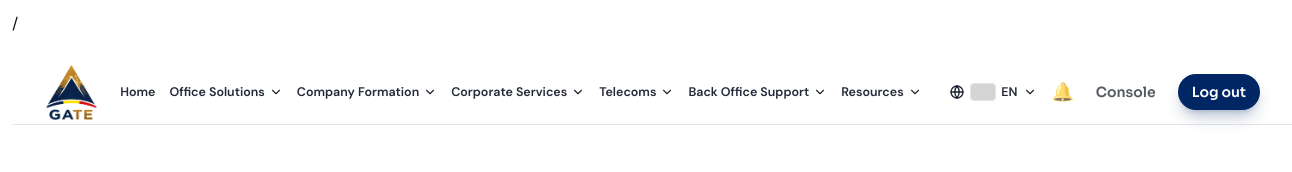
Scenario: Navbar auth links › sends an admin to the real console (/staff), never the old /admin or customer dashboard
Click the button "Console" at (1126, 92), box [1082,74,1170,110]
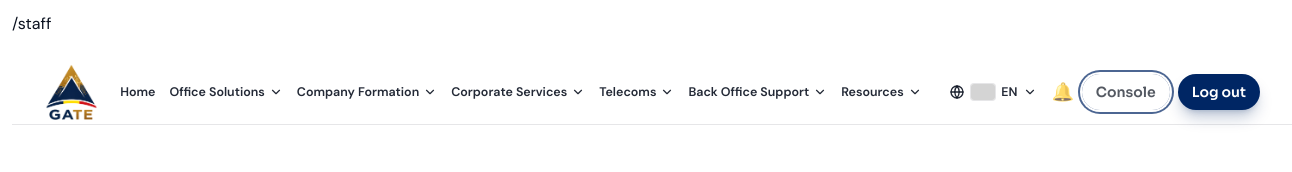
expect the text with test id "path" reads "/staff": met, box [12,13,51,34]
